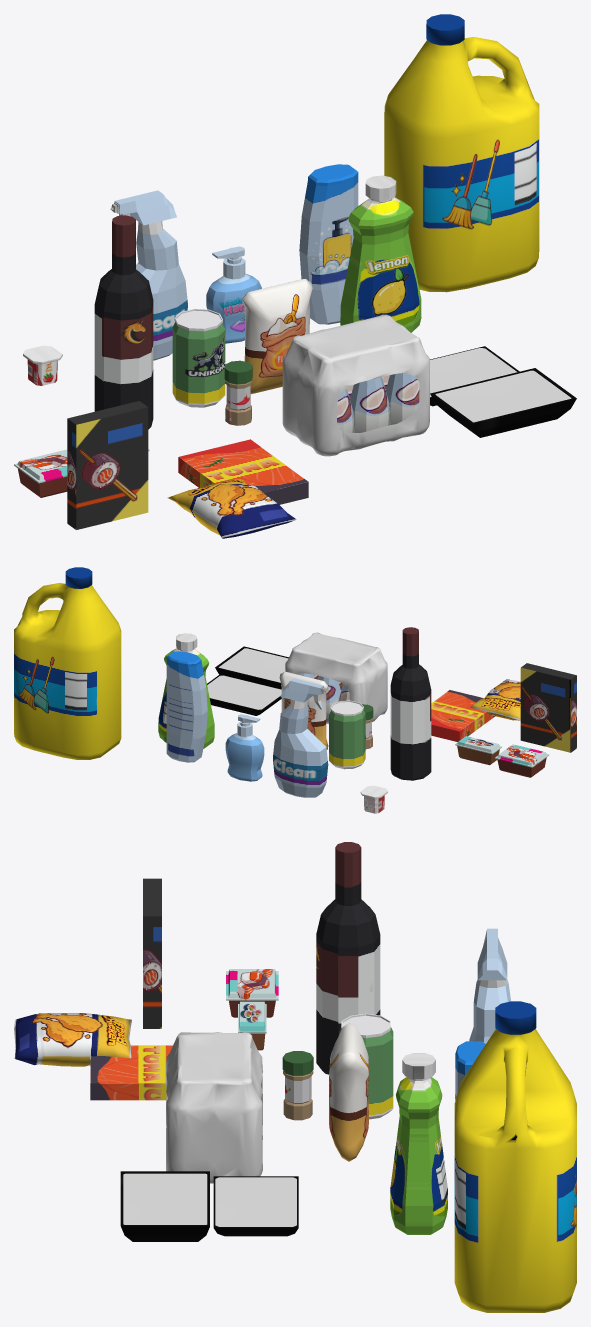
File: yogurt.fbx
The picture shows the model from 3 angles, top to bottom: view 1: azimuth 30°, elevation 25°; view 2: azimuth 150°, elevation 25°; view 3: azimuth 270°, elevation 25°; orthographic projection. The views are drawn at different scales.
Visible parts, largest first — view 1: BottlePlastic1_plastic_0, Object_2, Cube.043, Cylinder.018, Cylinder.015, Cylinder.013, Cylinder.012, flour, Cylinder.019, Cube.036, lies.004, Cylinder.016 (+7 smaller); view 2: BottlePlastic1_plastic_0, Cylinder.018, Object_2, Cylinder.012, Cube.043, Cylinder.013, Cylinder.019, Cube.036, Cylinder.014, defaultMaterial, defaultMaterial.003, Cylinder.015 (+9 smaller); view 3: BottlePlastic1_plastic_0, Object_2, Cylinder.018, Cylinder.015, lies.004, flour, defaultMaterial.003, defaultMaterial, Cube.036, Cylinder.019, Cylinder.012, Cube.043 (+6 smaller).
Part boxes in pixels (x1,y1,x2,y2): BottlePlastic1_plastic_0: [384, 14, 539, 292]; Object_2: [282, 314, 429, 456]; Cube.043: [67, 401, 148, 529]; Cylinder.018: [94, 215, 153, 429]; Cylinder.015: [340, 175, 421, 332]; Cylinder.013: [299, 164, 358, 324]; Cylinder.012: [110, 190, 187, 360]; flour: [242, 279, 312, 394]; Cylinder.019: [172, 309, 225, 407]; Cube.036: [178, 439, 308, 504]; lies.004: [167, 478, 296, 538]; Cylinder.016: [337, 373, 419, 438]; BottlePlastic1_plastic_0: [14, 567, 121, 759]; Cylinder.018: [390, 627, 431, 780]; Object_2: [285, 632, 387, 724]; Cylinder.012: [273, 678, 328, 797]; Cube.043: [520, 663, 576, 752]; Cylinder.013: [166, 651, 207, 762]; Cylinder.019: [329, 700, 365, 769]; Cube.036: [431, 690, 494, 741]; Cylinder.014: [225, 714, 264, 781]; defaultMaterial: [207, 675, 281, 709]; defaultMaterial.003: [219, 648, 288, 682]; Cylinder.015: [158, 633, 214, 748]; BottlePlastic1_plastic_0: [454, 1001, 576, 1312]; Object_2: [166, 1032, 262, 1183]; Cylinder.018: [316, 842, 380, 1074]; Cylinder.015: [390, 1053, 447, 1234]; lies.004: [14, 1013, 131, 1066]; flour: [329, 1023, 368, 1161]; defaultMaterial.003: [123, 1173, 207, 1224]; defaultMaterial: [215, 1177, 296, 1226]; Cube.036: [90, 1045, 172, 1100]; Cylinder.019: [339, 1013, 393, 1119]; Cylinder.012: [469, 928, 510, 1043]; Cube.043: [143, 878, 161, 1028].
Bounding box in the file's own units: 160 × 60.85 × 116.
1 material, 1 textured.
